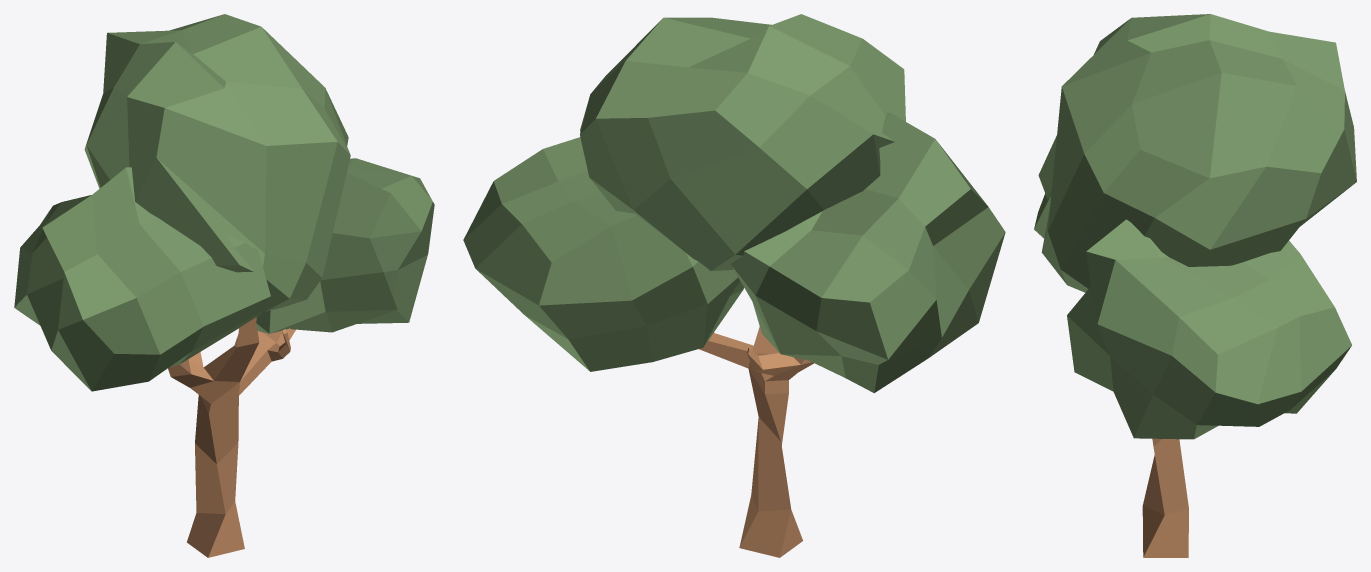
Rendered from ArbolT2.fbx.
The picture shows the model from 3 angles, left to right: view 1: azimuth 30°, elevation 25°; view 2: azimuth 150°, elevation 25°; view 3: azimuth 270°, elevation 25°; orthographic projection. The views are drawn at different scales.
Parts seen in each view (by area): view 1: Cube.002, Cube, Cube.001, Arbol01; view 2: Cube.002, Cube, Cube.001, Arbol01; view 3: Cube.002, Cube.001, Arbol01, Cube.
Boxes of the visible parts, x1,y1,x2,y2 form: Cube.002: (84, 14, 350, 311); Cube: (14, 167, 270, 391); Cube.001: (256, 158, 434, 333); Arbol01: (168, 317, 295, 557); Cube.002: (580, 14, 905, 270); Cube: (731, 112, 1005, 393); Cube.001: (463, 137, 743, 371); Arbol01: (699, 327, 813, 557); Cube.002: (1038, 14, 1356, 292); Cube.001: (1067, 219, 1351, 439); Arbol01: (1142, 438, 1188, 557); Cube: (1034, 193, 1051, 238).
Bounding box in the file's own units: 1542 × 1730 × 965.
